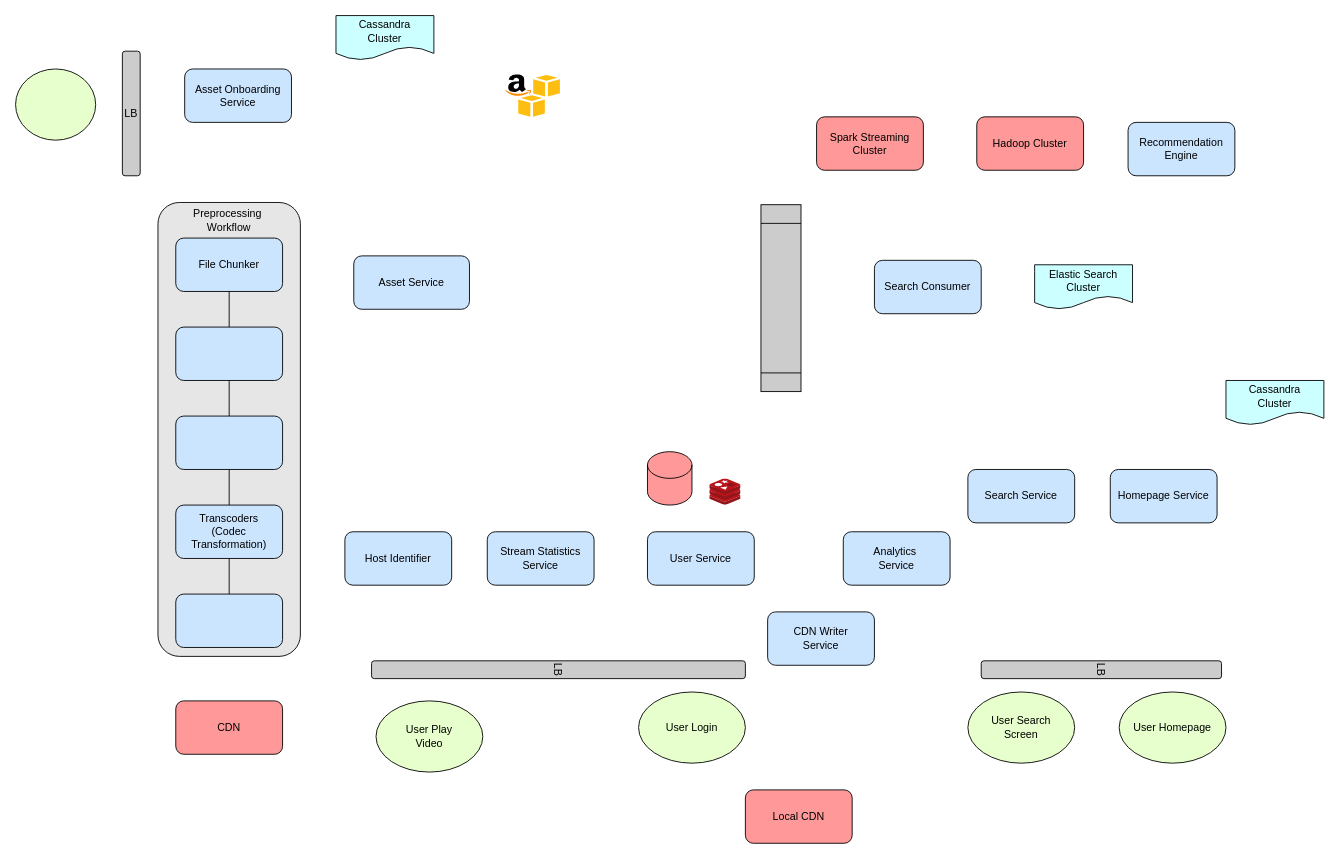
Image size: 1339x859. Some labels were removed from this diagram. Here are the shapes that lost their labels. From the top down, the box of each, then its label:
(15, 68, 96, 140): Video Onboarding UI
(504, 74, 560, 117): AWS S3
(760, 204, 801, 392): KAFKA
(175, 326, 283, 380): Content Filter Piracy, Nudity,
(175, 415, 283, 469): Content Tagger Tags, Thumbnails Generation
(647, 451, 692, 505): MySQL Cluster
(175, 593, 283, 647): Uploader
